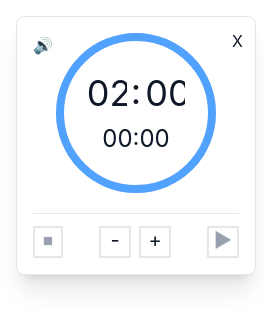
Scenario: TimerProgress › handles sound toggle correctly
# Toggle sound
Click the button titled "Disable sound" at x=43, y=45, box [29,29,57,61]
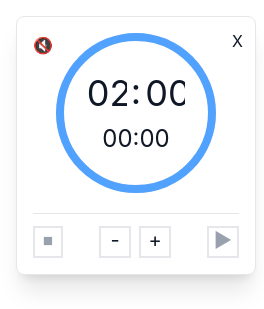
Expected: the button titled "Enable sound" reads "🔇"
# Toggle back
Click the button titled "Enable sound" at x=43, y=45, box [29,29,57,61]
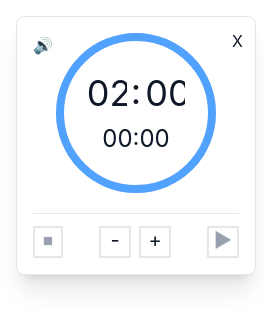
Expected: the button titled "Disable sound" reads "🔊", [29,29,57,61]
